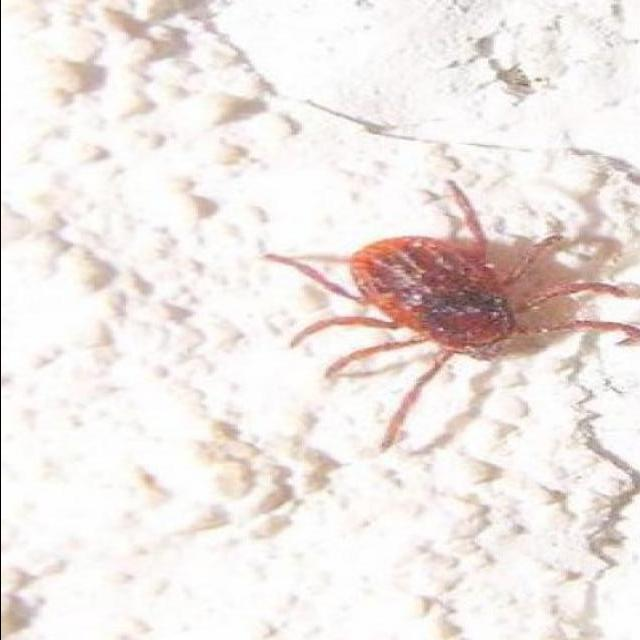Rhipicephalus Sanguineus-F: (261, 180, 640, 451)
